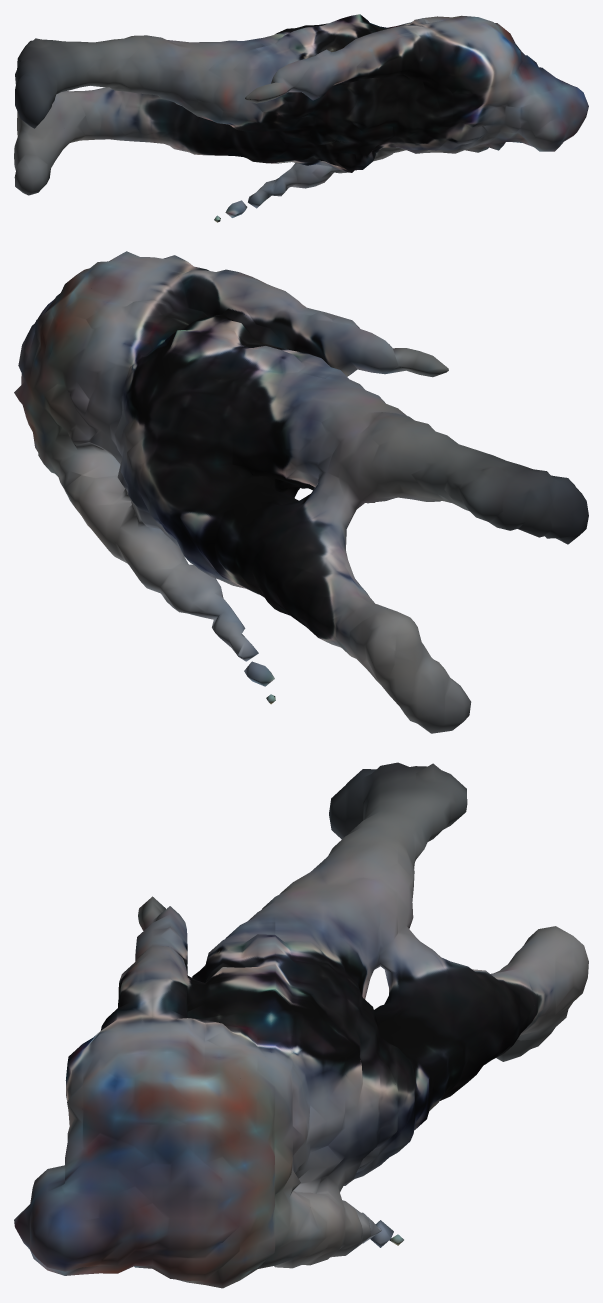
The picture shows the model from 3 angles, top to bottom: view 1: azimuth 30°, elevation 25°; view 2: azimuth 150°, elevation 25°; view 3: azimuth 270°, elevation 25°; orthographic projection. The views are drawn at different scales.
Size of the model in its own units: 0.9136 by 0.4094 by 0.6007.
1 material, 1 textured.
